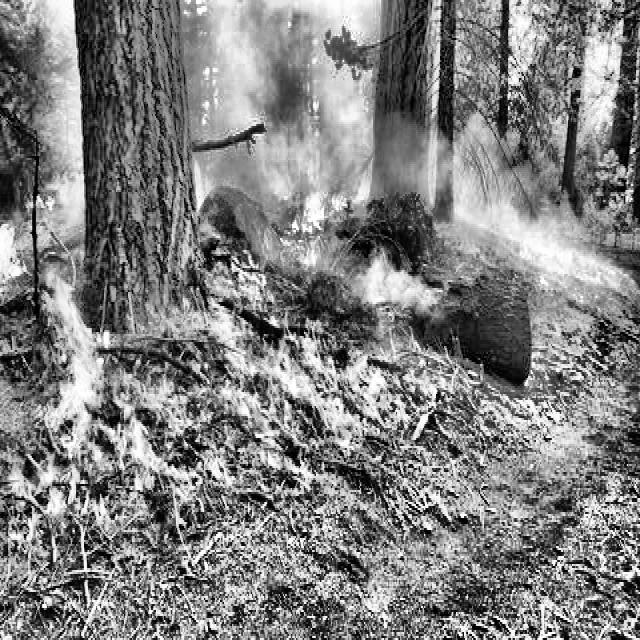fire: (0, 164, 426, 505)
